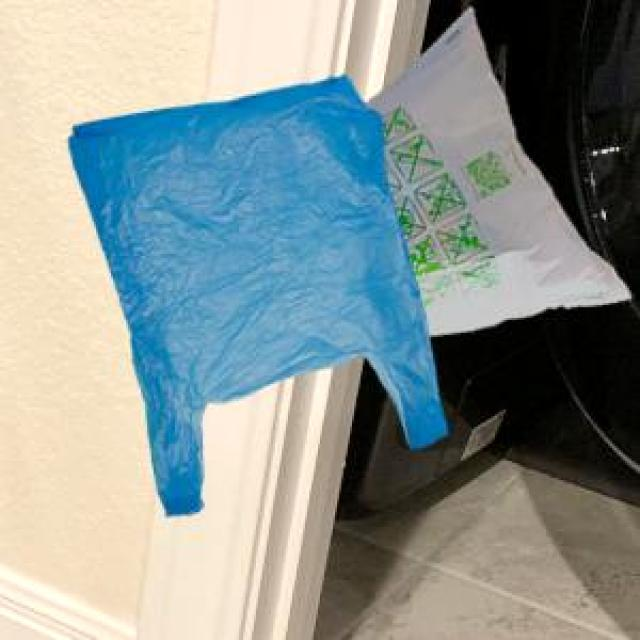Plastic_Bag: (65, 71, 445, 514), (362, 3, 628, 332)
